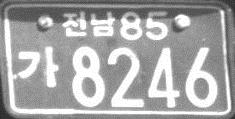2: (106, 45, 145, 109)
4: (147, 46, 181, 109)
5: (145, 8, 168, 41)
6: (184, 46, 219, 109)
8: (70, 45, 105, 107), (120, 10, 144, 40)
가: (16, 45, 59, 88)
전남_O: (61, 9, 115, 37)
